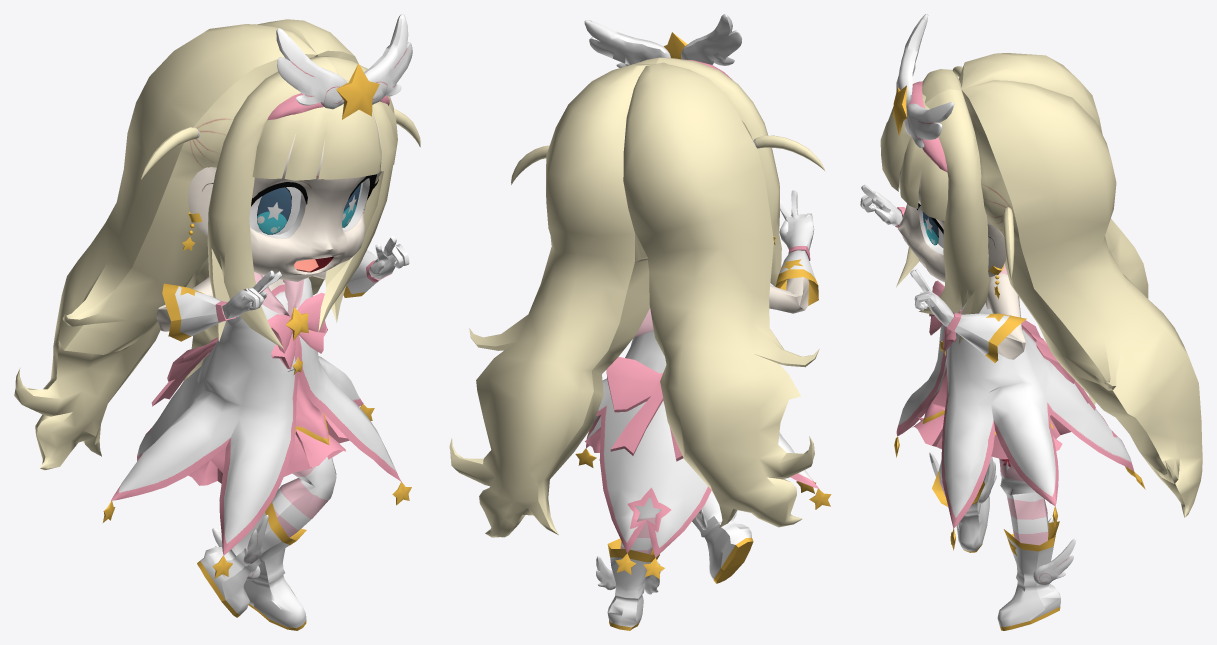
The model's file is milch.glb.
The picture shows the model from 3 angles, left to right: view 1: azimuth 30°, elevation 25°; view 2: azimuth 150°, elevation 25°; view 3: azimuth 270°, elevation 25°; orthographic projection. The views are drawn at different scales.
Parts seen in each view (by area): view 1: Milch; view 2: Milch; view 3: Milch.
Boxes of the visible parts, x1=… form: Milch: x1=14, y1=14, x2=420, y2=630; Milch: x1=449, y1=14, x2=831, y2=630; Milch: x1=860, y1=14, x2=1202, y2=630.
Bounding box in the file's own units: 1.58 × 2.65 × 1.4.
Materials: 7 (7 with a texture image).
